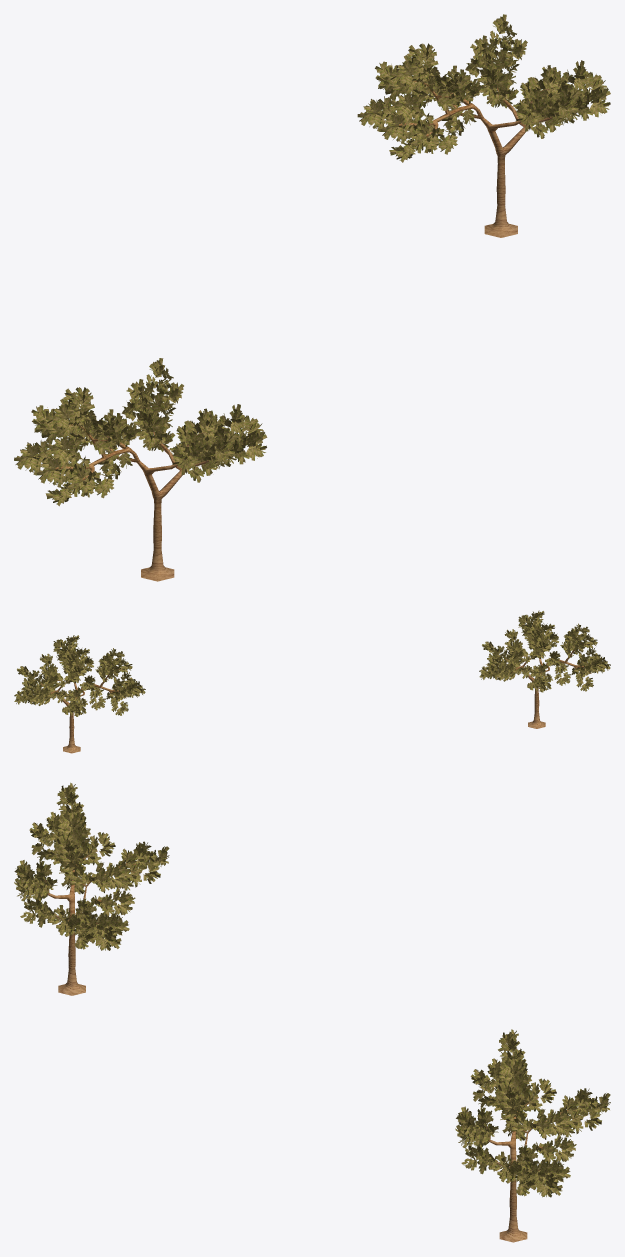
File: arboles.obj
3 views of the same model, one above another, from view 1: azimuth 30°, elevation 25°; view 2: azimuth 150°, elevation 25°; view 3: azimuth 270°, elevation 25° (orthographic). The views are drawn at different scales.
Parts seen in each view (by area): view 1: treetree_leaves, treetree_leaves1, tree_stemtree, tree_stemtree1; view 2: treetree_leaves1, treetree_leaves, tree_stemtree1, tree_stemtree; view 3: treetree_leaves, treetree_leaves1, tree_stemtree1, tree_stemtree.
Boxes of the visible parts, bbox=[...] form: treetree_leaves: bbox=[14, 358, 267, 506]; treetree_leaves1: bbox=[357, 14, 610, 162]; tree_stemtree: bbox=[55, 424, 234, 581]; tree_stemtree1: bbox=[399, 80, 578, 237]; treetree_leaves1: bbox=[14, 635, 145, 716]; treetree_leaves: bbox=[479, 610, 610, 692]; tree_stemtree1: bbox=[30, 669, 126, 753]; tree_stemtree: bbox=[495, 644, 591, 728]; treetree_leaves: bbox=[14, 782, 169, 950]; treetree_leaves1: bbox=[455, 1029, 610, 1197]; tree_stemtree1: bbox=[486, 1062, 580, 1242]; tree_stemtree: bbox=[43, 815, 139, 995].
Bounding box in the file's own units: 24.7 × 5.89 × 18.03.
2 materials, 2 textured.
